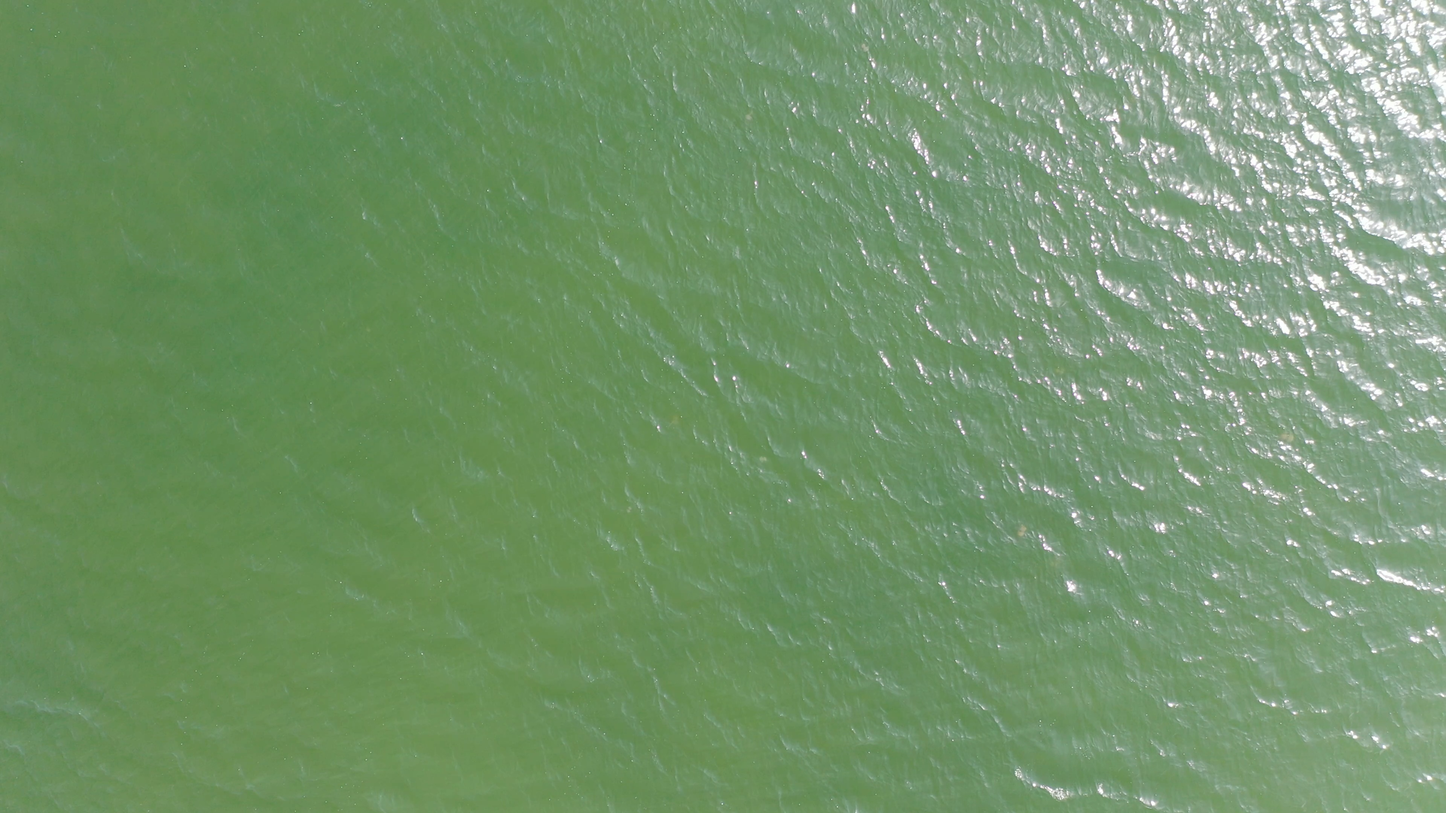meduse: (1282, 433, 1295, 443), (1050, 561, 1065, 569), (1017, 526, 1027, 536), (1056, 367, 1066, 375), (759, 457, 767, 463), (626, 507, 632, 514)
